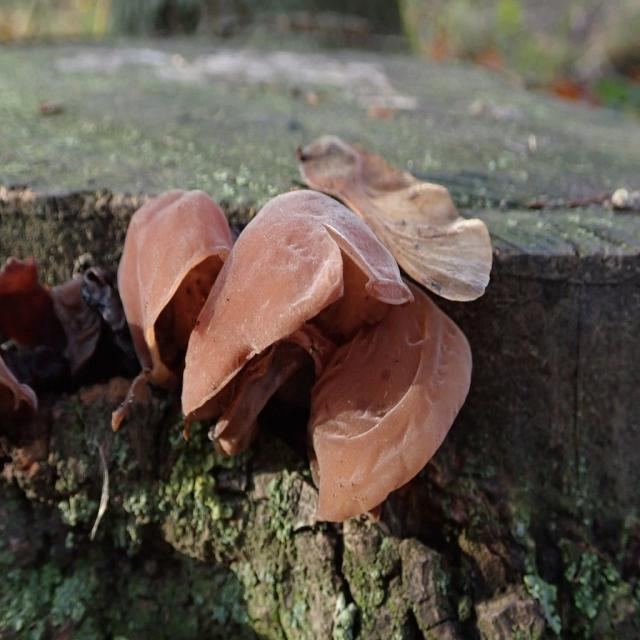Matang: (176, 183, 418, 457), (295, 277, 476, 531), (113, 182, 234, 405)
